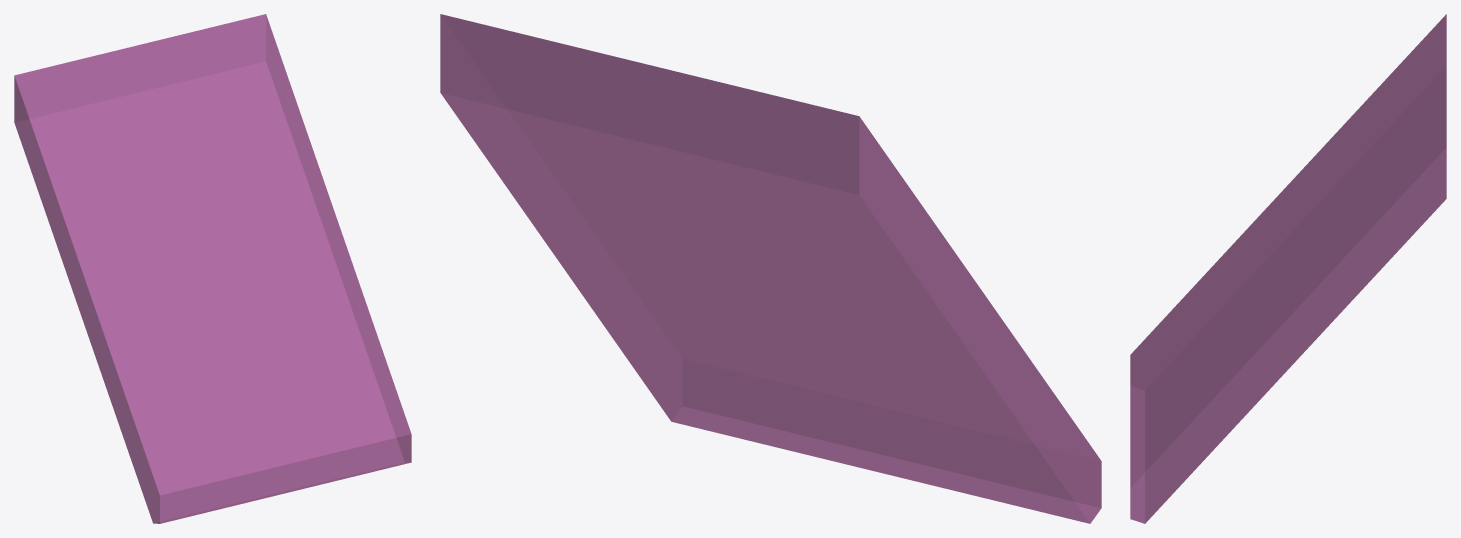
The model's file is SM_Bld_Base_Roof_Straight_01_Collision.fbx.
3 views of the same model, side by side, from view 1: azimuth 30°, elevation 25°; view 2: azimuth 150°, elevation 25°; view 3: azimuth 270°, elevation 25° (orthographic). The views are drawn at different scales.
Parts seen in each view (by area): view 1: SM_Bld_Base_Roof_Straight_01_Collision; view 2: SM_Bld_Base_Roof_Straight_01_Collision; view 3: SM_Bld_Base_Roof_Straight_01_Collision.
Boxes of the visible parts, left/top/right/bottom form: SM_Bld_Base_Roof_Straight_01_Collision: left=14, top=14, right=411, bottom=523; SM_Bld_Base_Roof_Straight_01_Collision: left=440, top=14, right=1101, bottom=523; SM_Bld_Base_Roof_Straight_01_Collision: left=1130, top=14, right=1446, bottom=523.
Size of the model in its own units: 253 by 333 by 254.
